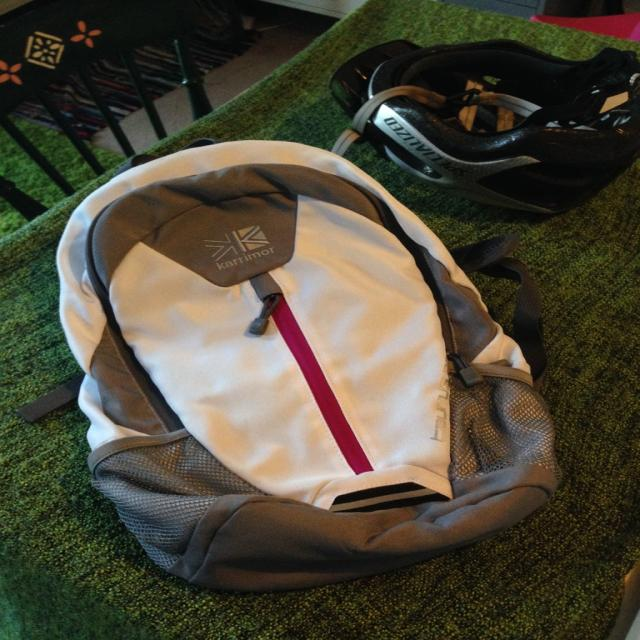backpack: (46, 137, 566, 598)
